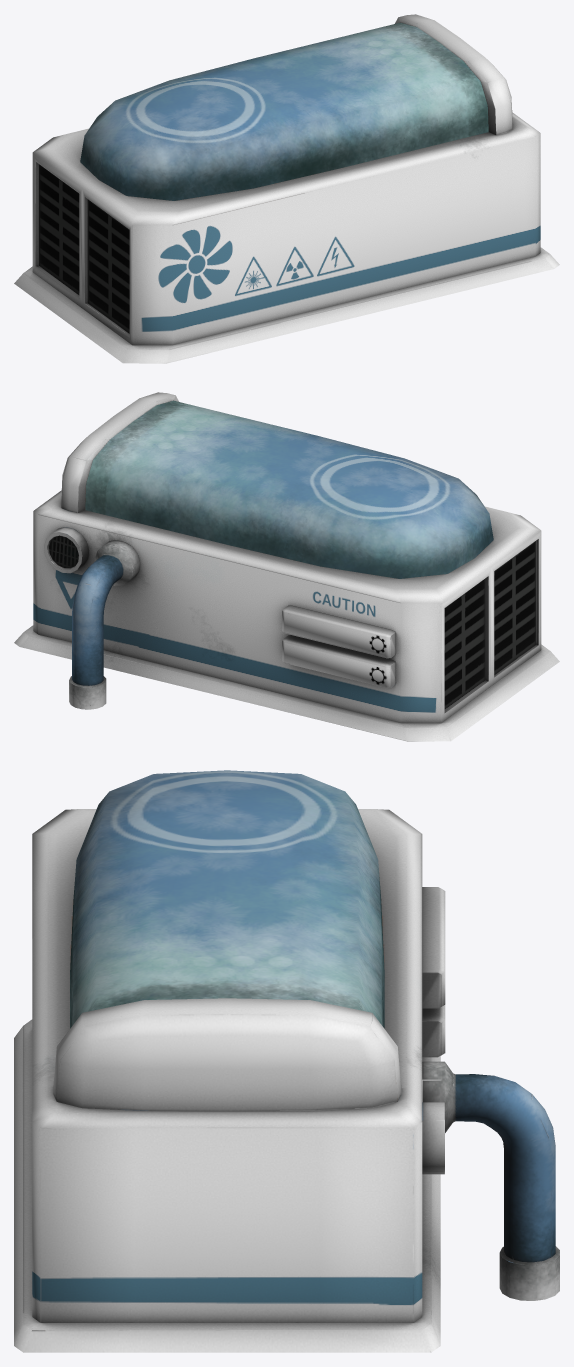
File: CryoCasket.fbx
3 renders of one model, top to bottom at view 1: azimuth 30°, elevation 25°; view 2: azimuth 150°, elevation 25°; view 3: azimuth 270°, elevation 25°, orthographic. The views are drawn at different scales.
Parts seen in each view (by area): view 1: CryoCasket, CryoLid; view 2: CryoCasket, CryoLid; view 3: CryoCasket, CryoLid.
Boxes of the visible parts, x1,y1,x2,y2 form: CryoCasket: (14, 14, 559, 363); CryoLid: (80, 22, 488, 200); CryoCasket: (14, 392, 559, 741); CryoLid: (85, 400, 493, 578); CryoCasket: (14, 809, 559, 1352); CryoLid: (70, 770, 384, 1028).
Bounding box in the file's own units: 2.16 × 0.9744 × 1.46.
